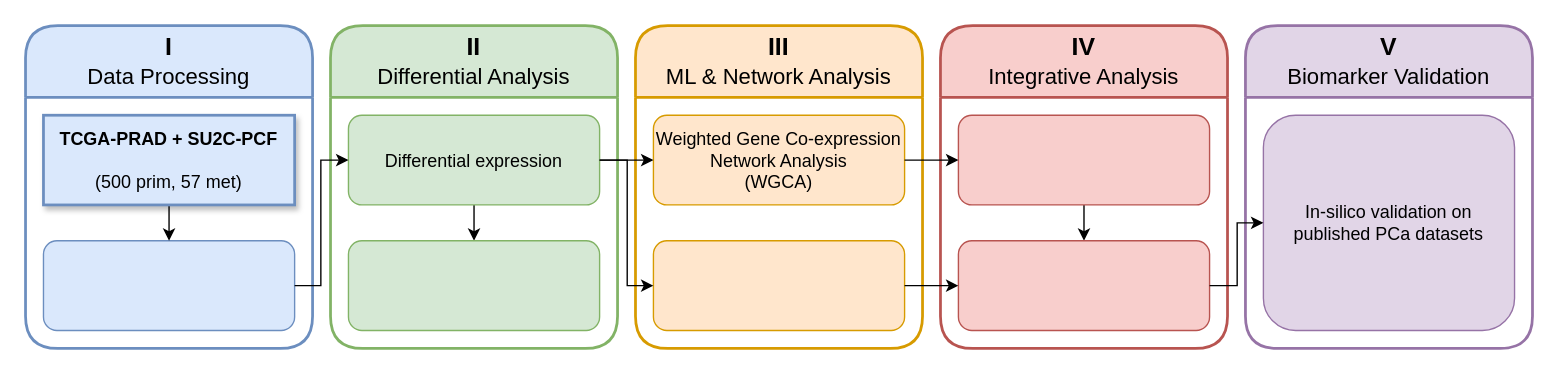
This 1557x373 diagram has some shape labels left out. The centre of each missing label's shape, as x and y in pixels:
"Explainable machine learning" goes at point (778, 285).
"Functional enrichment" goes at point (473, 285).
"Identification of k ey WGCNA modules" goes at point (1083, 159).
"Identification of key genes by SHAP value" goes at point (1083, 285).
"Pre-processing, integration of samples and removal of replicates." goes at point (168, 285).
